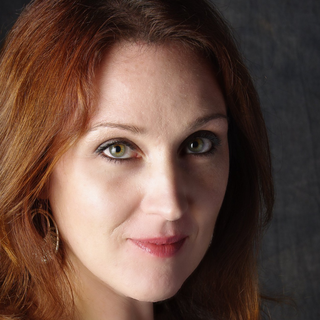eye: (88, 135, 150, 169), (175, 128, 224, 163)
